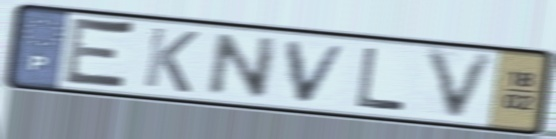E: (59, 13, 139, 94)
K: (139, 24, 202, 96)
L: (354, 45, 410, 114)
N: (202, 30, 283, 101)
V: (421, 44, 504, 125), (282, 38, 354, 106)
